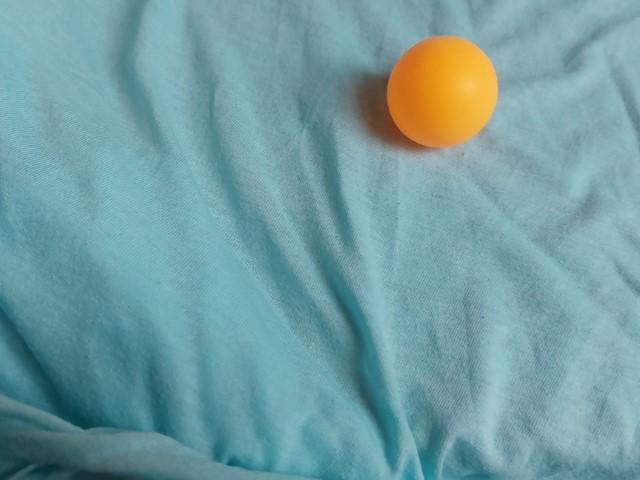oball: (379, 32, 504, 154)
